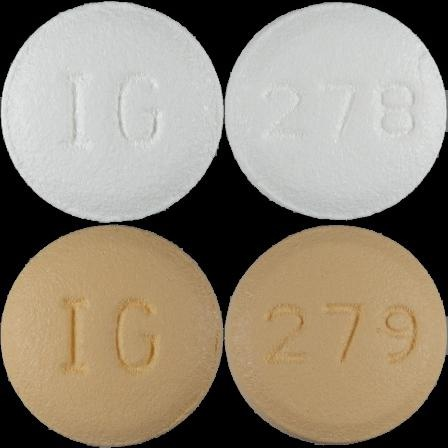63629-3994: (0, 0, 224, 224)
